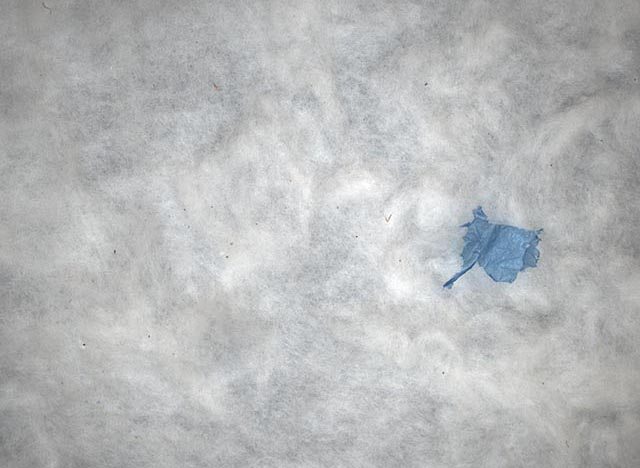plastic film: (441, 206, 545, 291)
